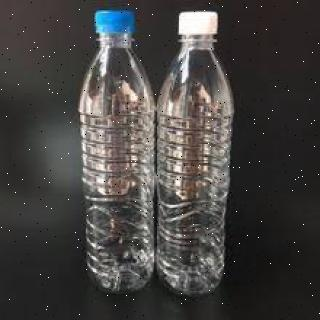Plastic-bottle: (78, 10, 160, 296), (157, 10, 237, 299)
